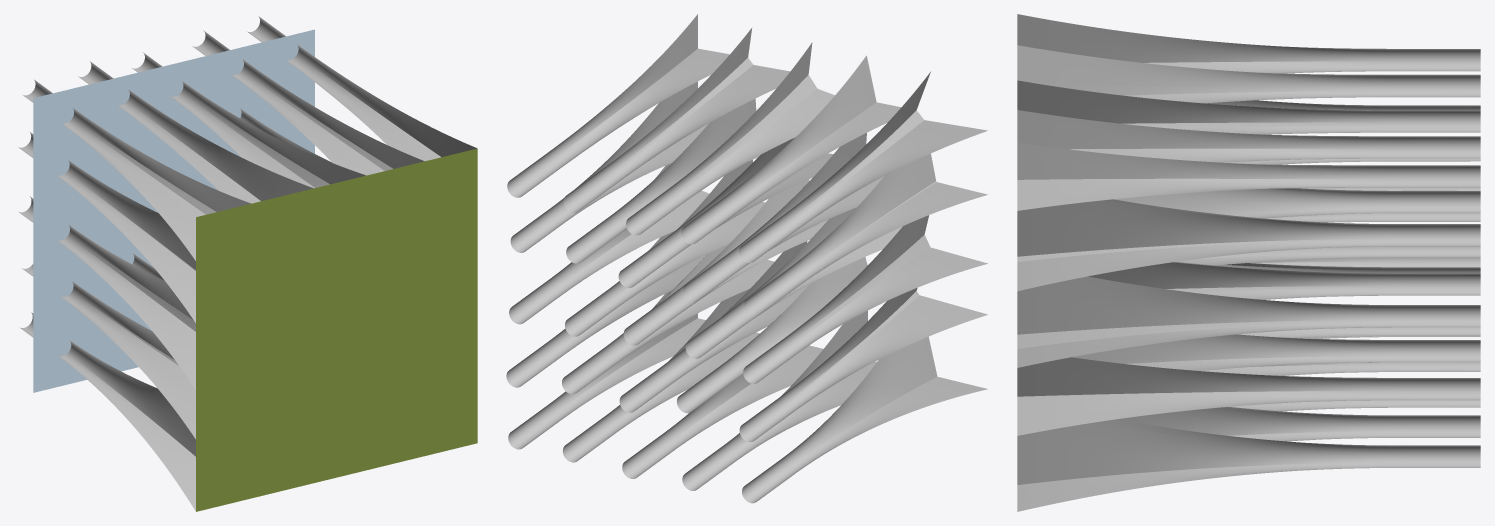
3 renders of one model, left to right at view 1: azimuth 30°, elevation 25°; view 2: azimuth 150°, elevation 25°; view 3: azimuth 270°, elevation 25°, orthographic. The views are drawn at different scales.
Bounding box in the file's own units: 50000 × 50000 × 61849.
